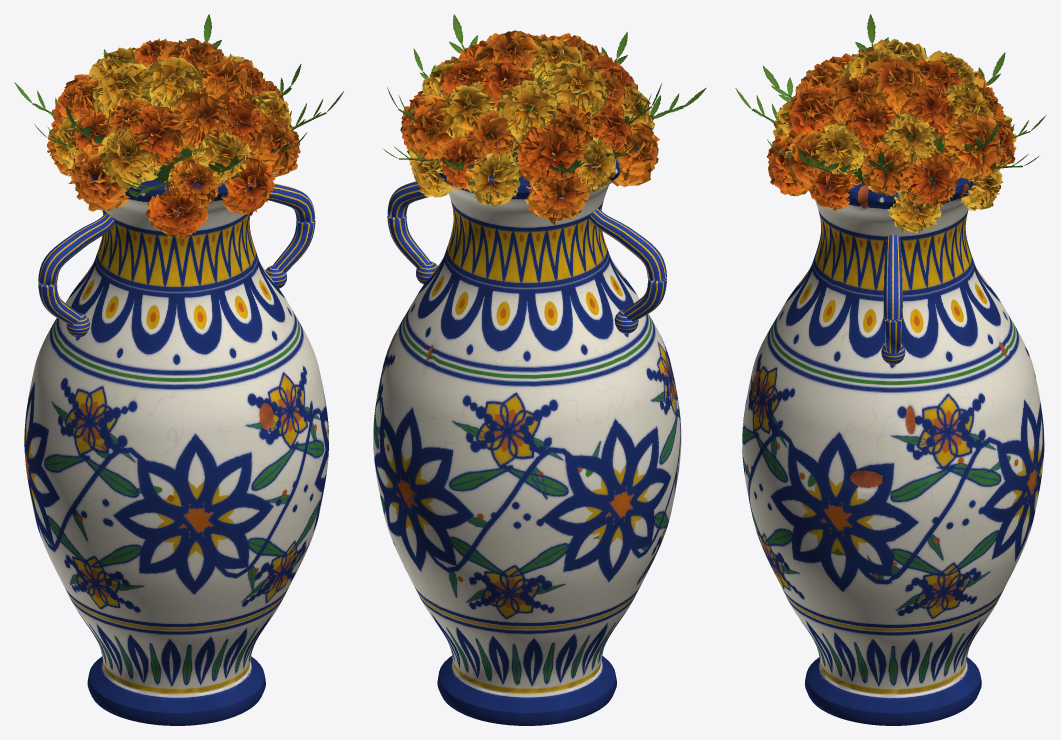
File: w3_court_talavera_tall.glb
The picture shows the model from 3 angles, left to right: view 1: azimuth 30°, elevation 25°; view 2: azimuth 150°, elevation 25°; view 3: azimuth 270°, elevation 25°; orthographic projection.
Parts seen in each view (by area): view 1: w3_court_talavera_tall; view 2: w3_court_talavera_tall; view 3: w3_court_talavera_tall.
Boxes of the visible parts, <box> form: w3_court_talavera_tall: <box>14,14,343,725</box>; w3_court_talavera_tall: <box>373,14,706,725</box>; w3_court_talavera_tall: <box>735,14,1045,725</box>.
Size of the model in its own units: 0.4694 by 1.06 by 0.4653.
Materials: 4 (4 with a texture image).
